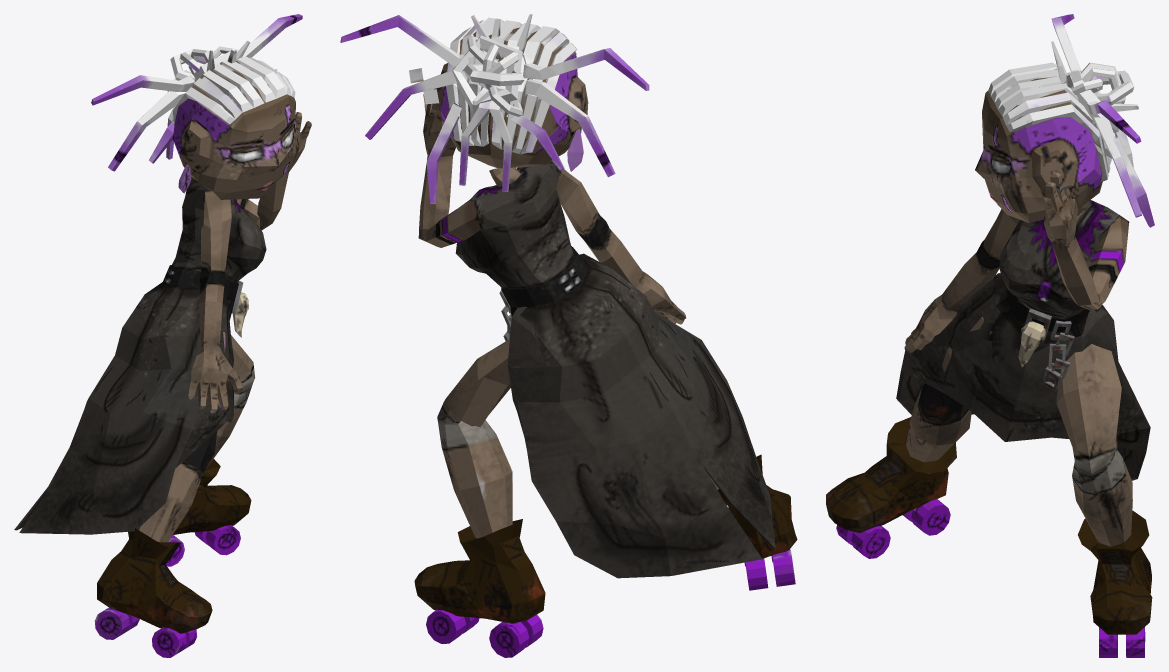
Rendered from bruja_000065.obj.
The picture shows the model from 3 angles, left to right: view 1: azimuth 30°, elevation 25°; view 2: azimuth 150°, elevation 25°; view 3: azimuth 270°, elevation 25°; orthographic projection. The views are drawn at different scales.
Parts seen in each view (by area): view 1: Bruja_Plane.001; view 2: Bruja_Plane.001; view 3: Bruja_Plane.001.
Boxes of the visible parts, <box> form: Bruja_Plane.001: <box>14,14,311,657</box>; Bruja_Plane.001: <box>340,14,797,657</box>; Bruja_Plane.001: <box>826,14,1154,657</box>.
Size of the model in its own units: 10.1 by 15.41 by 7.73.
